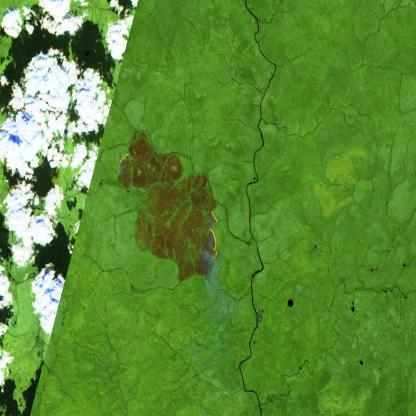fire: (118, 152, 219, 263)
